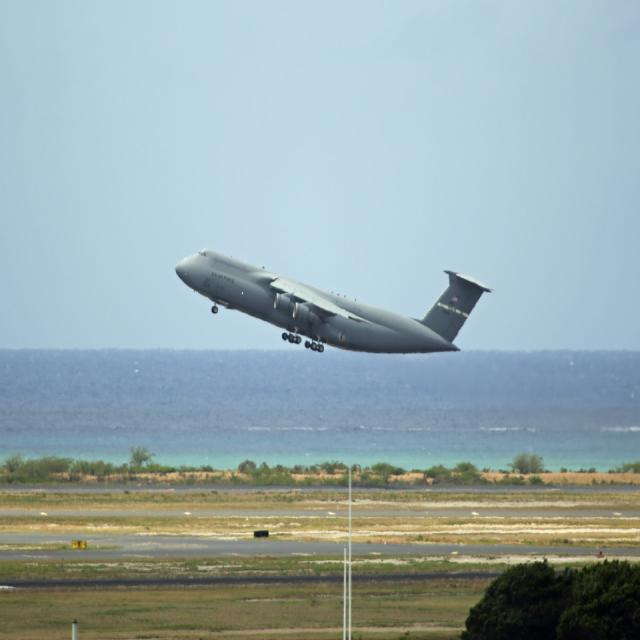MIL_Plane: (175, 247, 495, 354)
